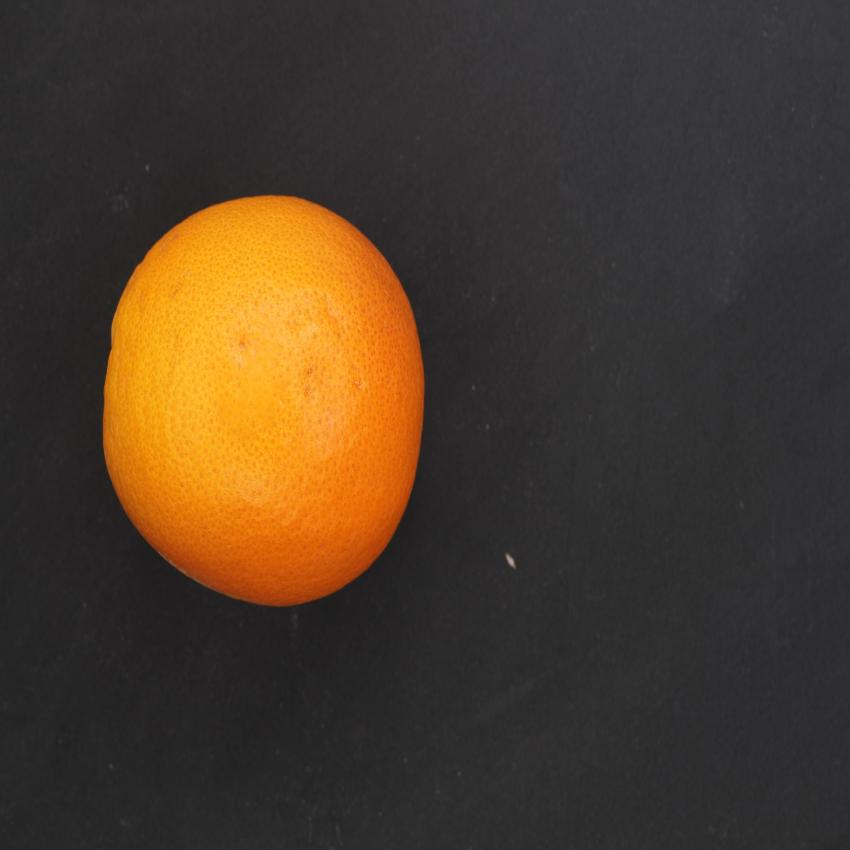Buen estado: (92, 180, 430, 640)
